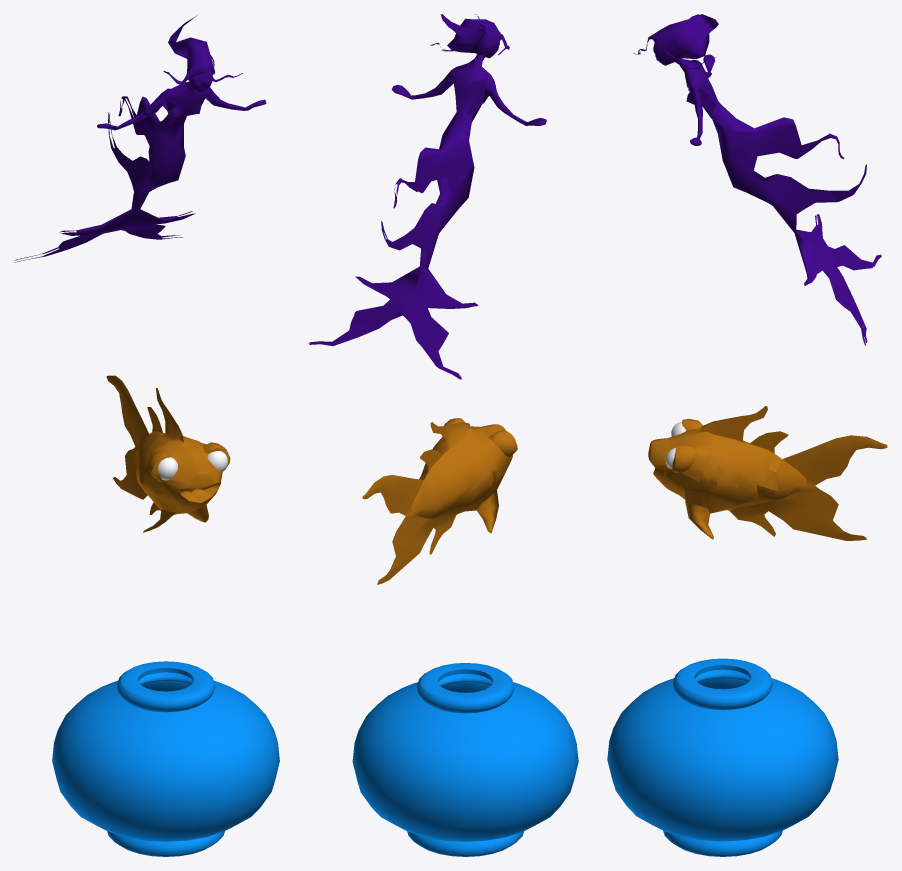
Rendered from ModelsForSurfacing.obj.
3 views of the same model, side by side, from view 1: azimuth 30°, elevation 25°; view 2: azimuth 150°, elevation 25°; view 3: azimuth 270°, elevation 25° (orthographic). The views are drawn at different scales.
Visible parts, largest first — view 1: Bowl, MermaidMesh, FishMesh; view 2: Bowl, MermaidMesh, FishMesh; view 3: Bowl, FishMesh, MermaidMesh.
Boxes of the visible parts, x1,y1,x2,y2 form: Bowl: (52,661,279,856); MermaidMesh: (14,15,266,262); FishMesh: (106,375,230,532); Bowl: (352,663,578,856); MermaidMesh: (308,14,546,379); FishMesh: (362,418,517,584); Bowl: (607,658,838,856); FishMesh: (648,406,887,540); MermaidMesh: (633,14,881,345).
Size of the model in its own units: 52.82 by 209 by 64.03.
